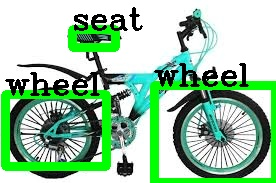seat: (72, 29, 115, 47)
wheel: (154, 85, 275, 182), (5, 94, 106, 166)
